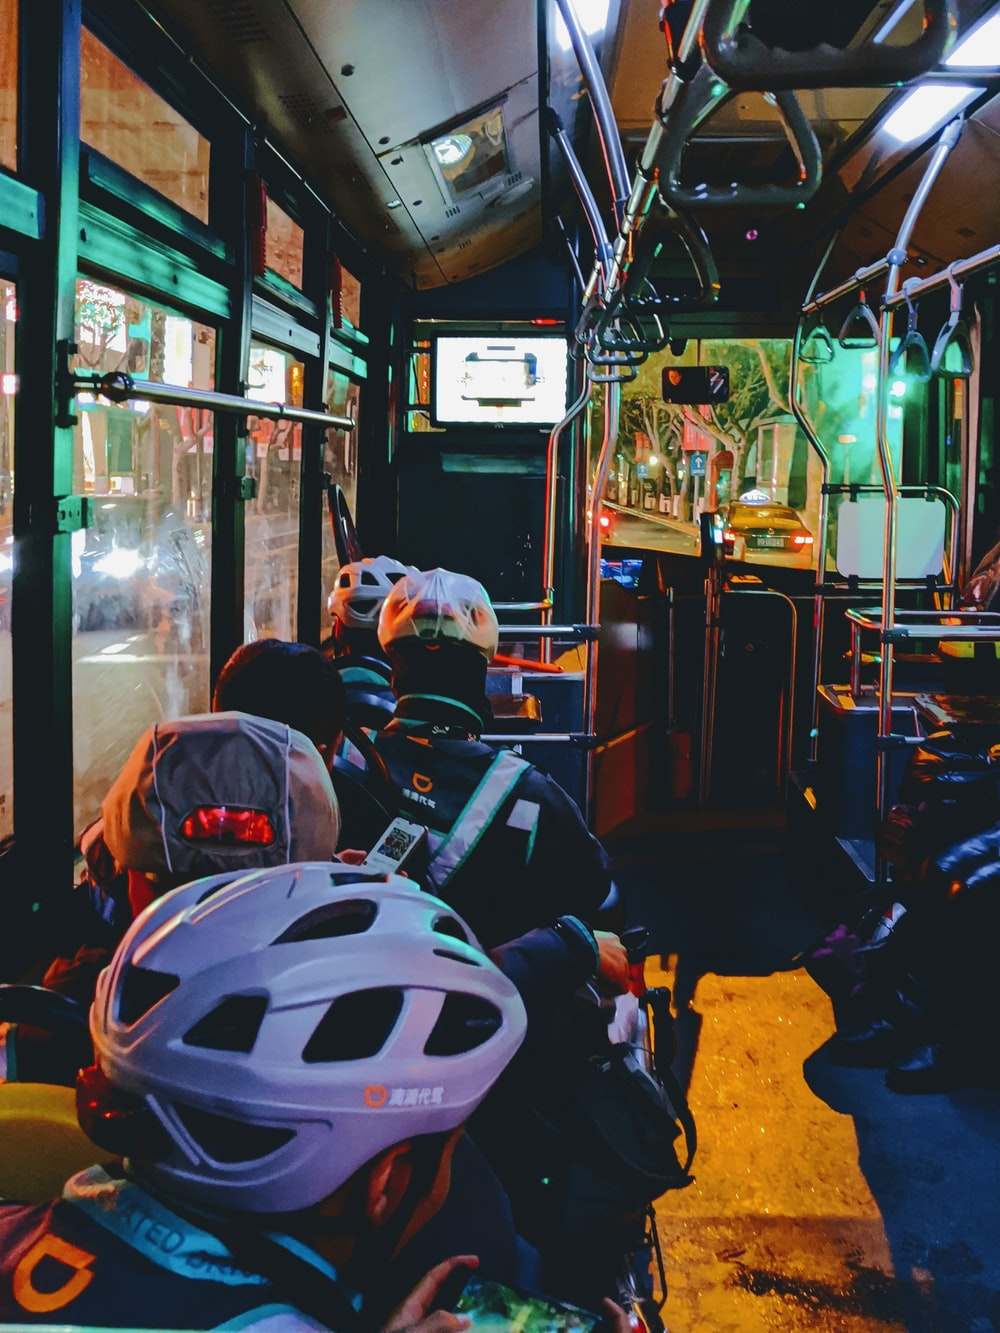helmet: (75, 861, 529, 1289)
